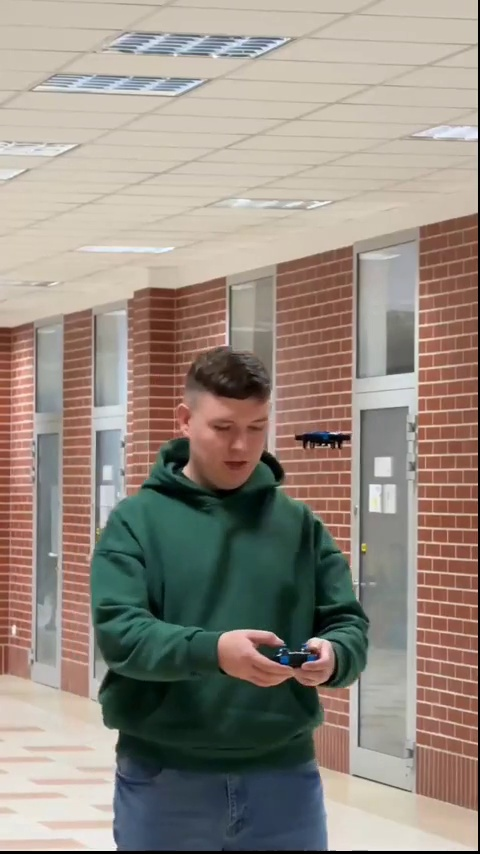drone: (290, 424, 355, 456)
no vest: (80, 354, 371, 854)
